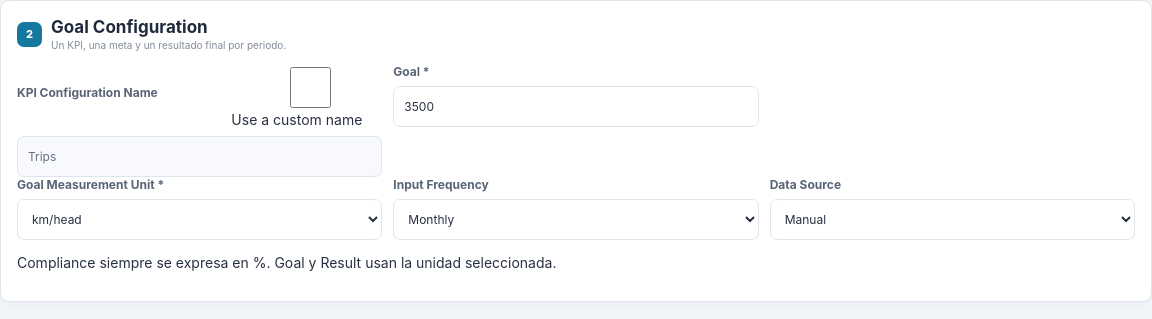
Scenario: Single KPI units › uses the Definition name until custom naming is enabled
Check: the field labelled "KPI Configuration Name" holds "Trips", box [17, 136, 382, 177]
Click the checkbox labelled "Use a custom name": x=311, y=88 [235, 67, 386, 108]
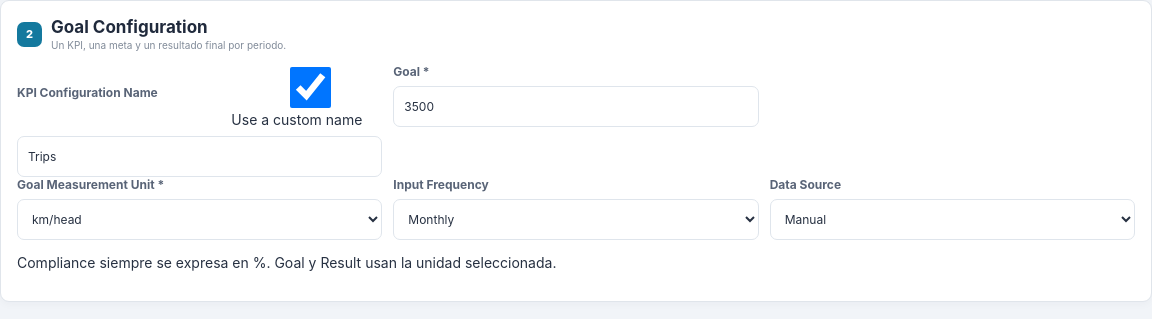
Check: the field labelled "KPI Configuration Name" does not have attribute readonly
Replace the text in the field labelled "KPI Configuration Name" with "Trips Jacky": x=200, y=156 [17, 136, 382, 177]
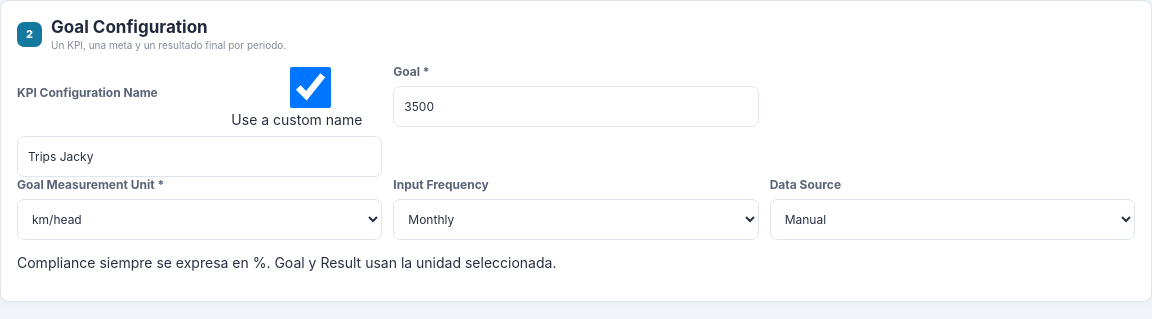
Click the checkbox labelled "Use a custom name": x=311, y=88 [235, 67, 386, 108]
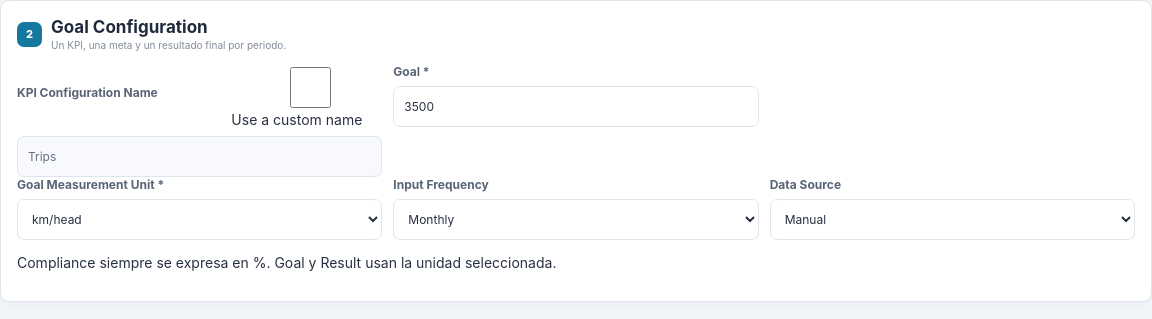
Check: the field labelled "KPI Configuration Name" holds "Trips", box [17, 136, 382, 177]
